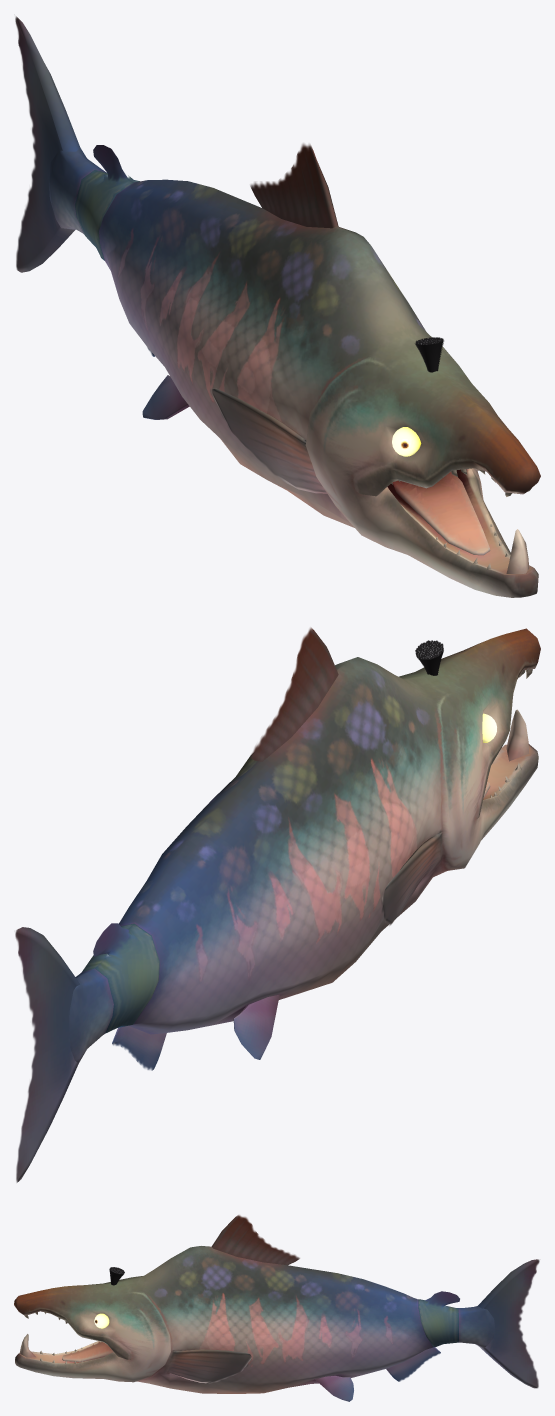
The picture shows the model from 3 angles, top to bottom: view 1: azimuth 30°, elevation 25°; view 2: azimuth 150°, elevation 25°; view 3: azimuth 270°, elevation 25°; orthographic projection. The views are drawn at different scales.
Visible parts, largest first — view 1: Body_Mesh__M_Body, Eyes_Mesh__M_Body, HairBaseA_low__M_Hair00; view 2: Body_Mesh__M_Body, HairBaseA_low__M_Hair00; view 3: Body_Mesh__M_Body, Eyes_Mesh__M_Body.
Part boxes in pixels (x1,y1,x2,y2): Body_Mesh__M_Body: (15, 16, 540, 597); Eyes_Mesh__M_Body: (391, 427, 531, 569); HairBaseA_low__M_Hair00: (415, 337, 443, 372); Body_Mesh__M_Body: (15, 627, 540, 1182); HairBaseA_low__M_Hair00: (415, 640, 443, 675); Body_Mesh__M_Body: (14, 1215, 539, 1401); Eyes_Mesh__M_Body: (24, 1312, 109, 1363).
Size of the model in its own units: 35.3 by 68.06 by 183.
Materials: 2 (2 with a texture image).
